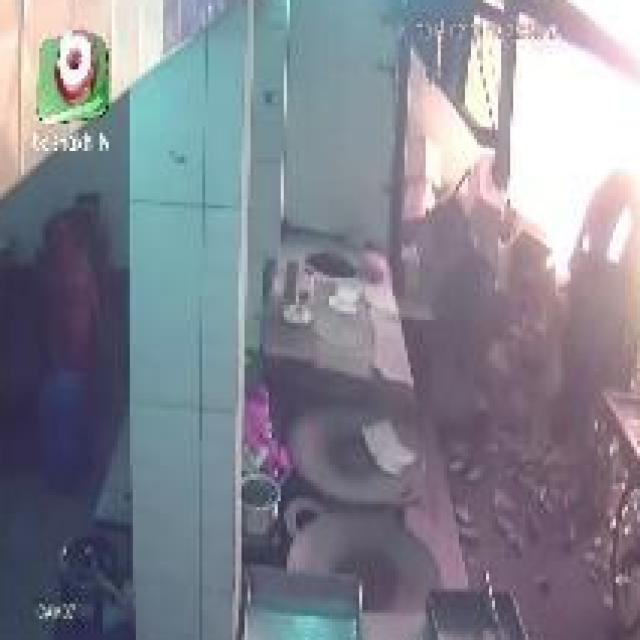smoke: (495, 0, 640, 377)
